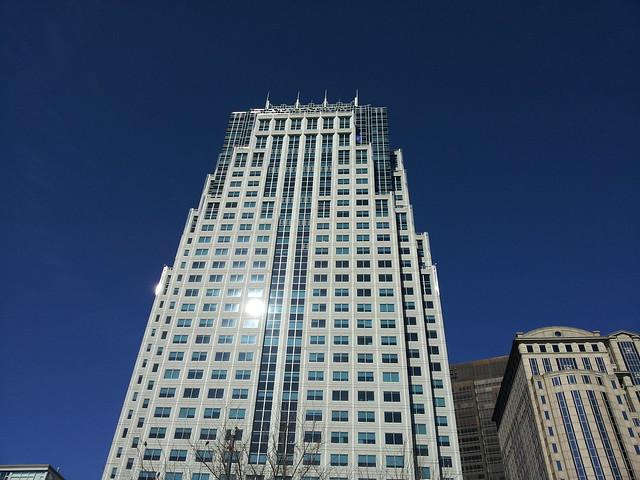building: (99, 94, 468, 480)
